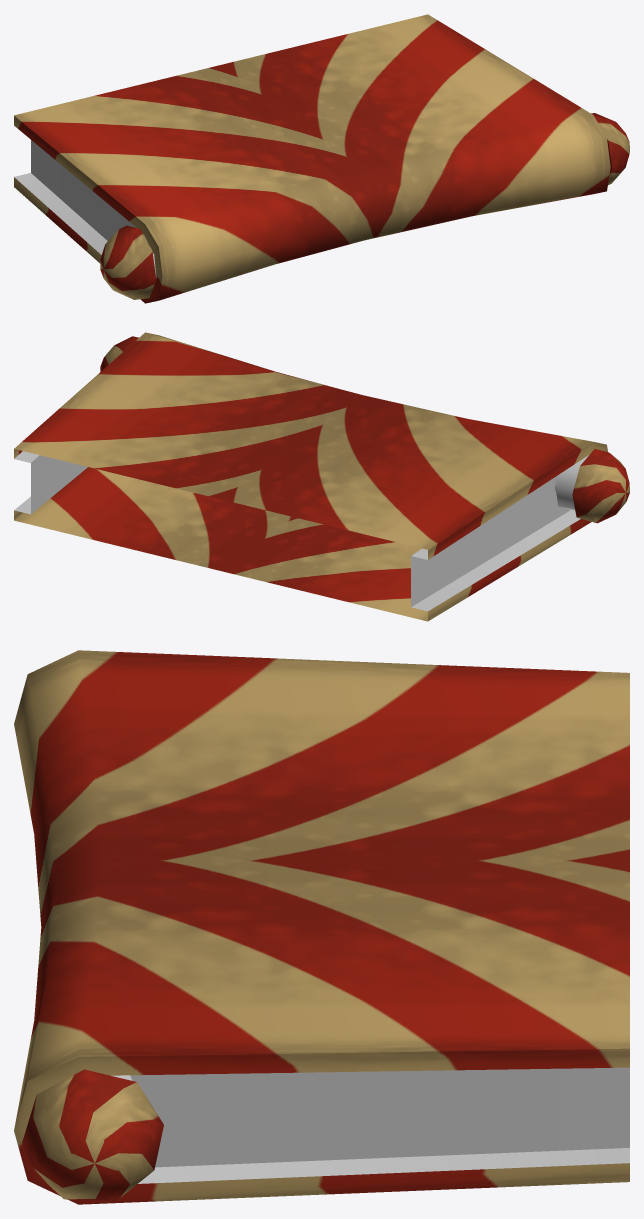
Rendered from MOD_Roller_3_A.FBX.
3 views of the same model, one above another, from view 1: azimuth 30°, elevation 25°; view 2: azimuth 150°, elevation 25°; view 3: azimuth 270°, elevation 25° (orthographic). The views are drawn at different scales.
Parts seen in each view (by area): view 1: MOD_Roller_3_A; view 2: MOD_Roller_3_A; view 3: MOD_Roller_3_A.
Boxes of the visible parts, box(x1,y1,x2,y2) form: MOD_Roller_3_A: box(14, 14, 629, 303); MOD_Roller_3_A: box(14, 332, 629, 621); MOD_Roller_3_A: box(14, 650, 629, 1204).
Bounding box in the file's own units: 3.81 × 0.5534 × 2.09.
